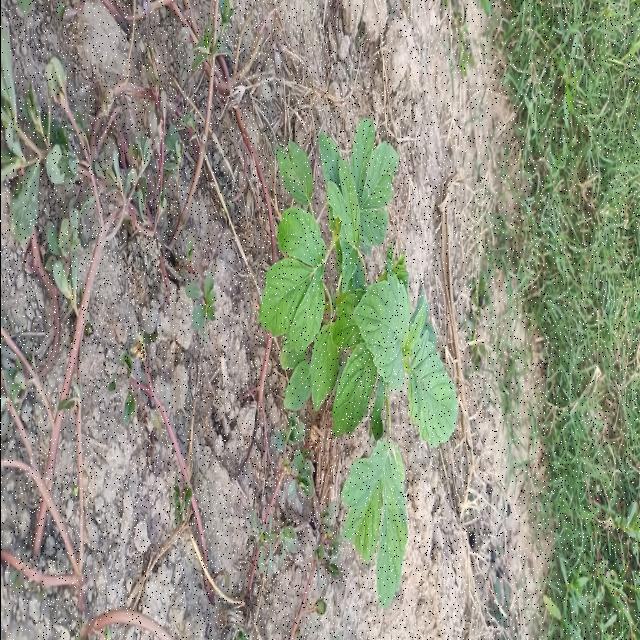plant: (258, 120, 457, 609)
